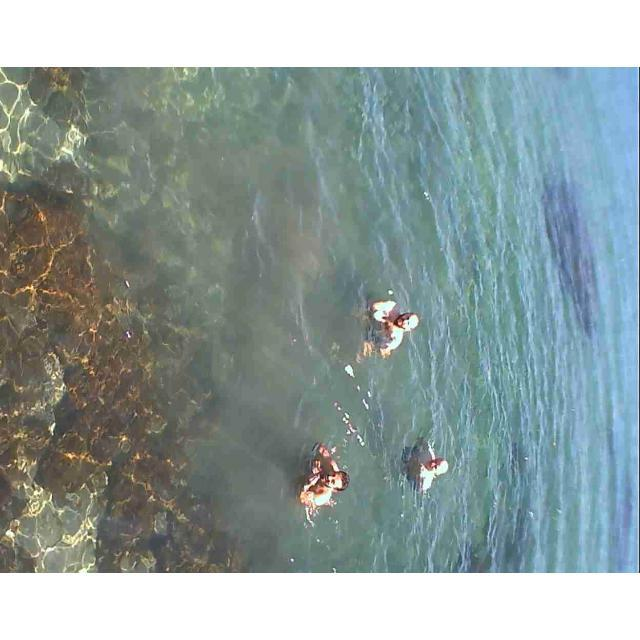human: (353, 293, 422, 372), (288, 439, 348, 521), (407, 427, 454, 510)
